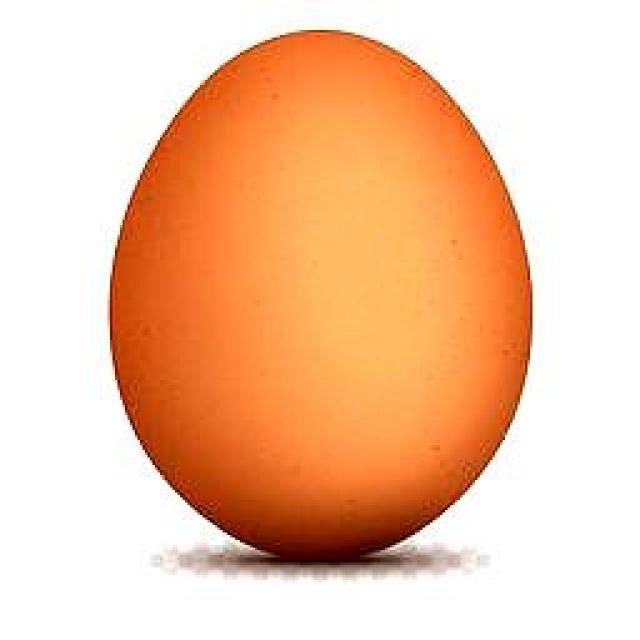Eggs: (108, 29, 534, 562)
